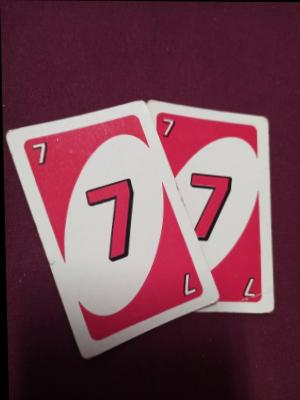num_7: (159, 108, 178, 147)
